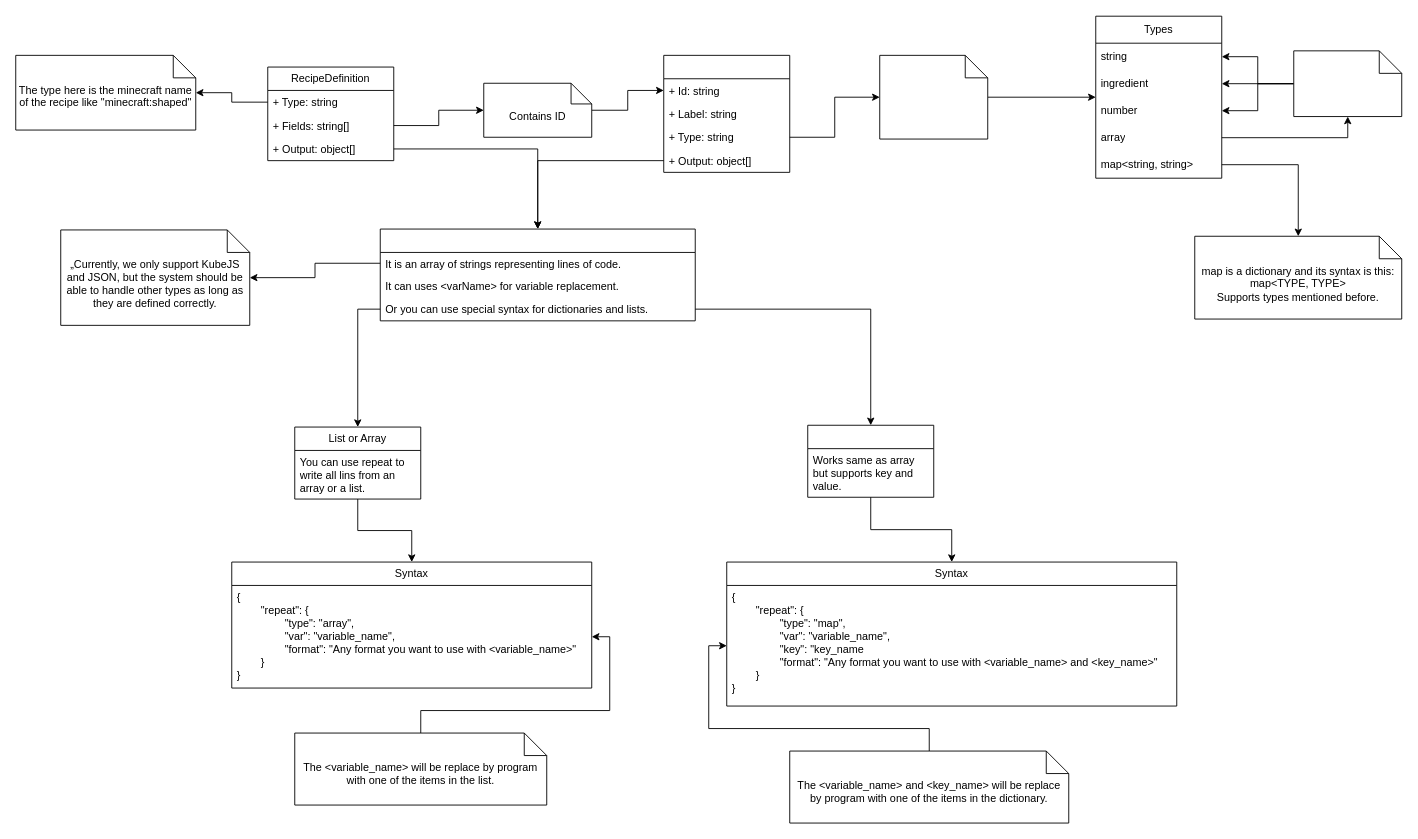
The diagram is 1418 pixels wide and 839 high, and some of its shapes have lost their labels. The box of each missing label's shape, as (x1, y1, x2, y2) in pixels:
Dictionary: (807, 424, 934, 497)
It can be array of any type of these: (1293, 50, 1402, 117)
Output formating: (379, 228, 695, 321)
Setting: (663, 54, 790, 172)
Thist type represents the type of variable this setting will hold: (879, 54, 988, 139)
